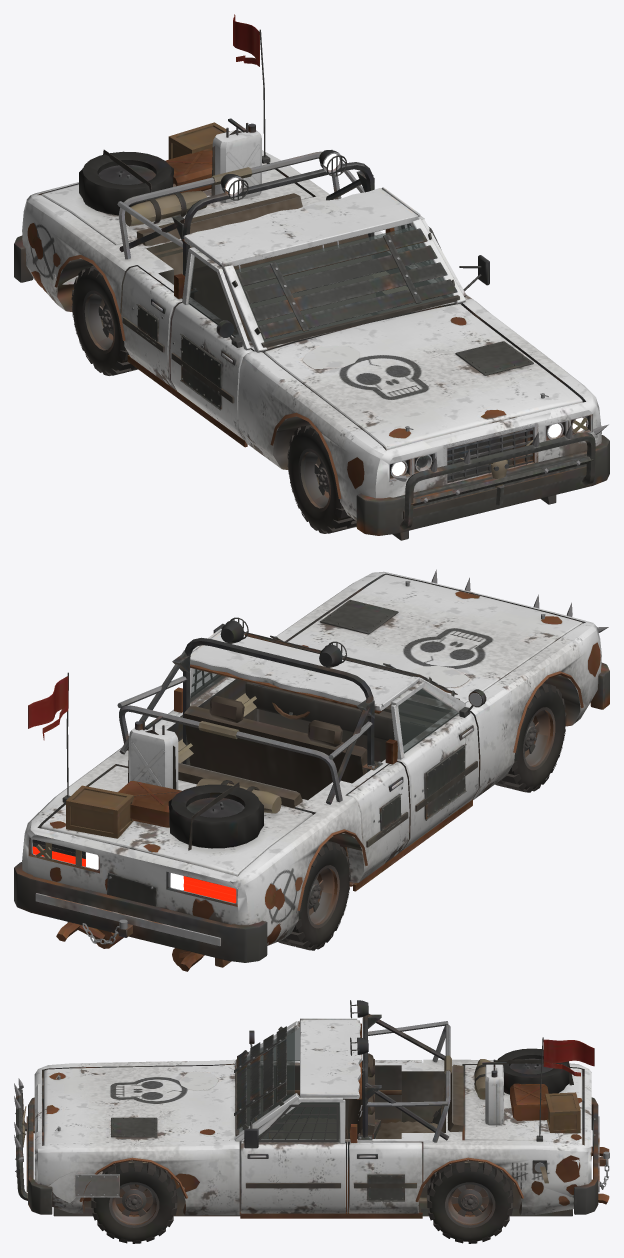
Rendered from e_sedan.glb.
3 renders of one model, top to bottom at view 1: azimuth 30°, elevation 25°; view 2: azimuth 150°, elevation 25°; view 3: azimuth 270°, elevation 25°, orthographic. The views are drawn at different scales.
Visible parts, largest first — view 1: body_mesh, panel_hood, panel_trunk, panel_bumper_F, panel_door_R, panel_door_R2, wheel_FR_tire, wheel_RR_tire, wheel_FR_rim, wheel_RR_rim, panel_door_L; view 2: body_mesh, panel_trunk, panel_hood, panel_door_R, panel_bumper_R, panel_door_R2, wheel_FR_tire, wheel_RR_tire, wheel_FR_rim, wheel_RR_rim, panel_bumper_F, panel_door_L; view 3: body_mesh, panel_hood, panel_door_L, panel_trunk, panel_door_L2, wheel_RL_tire, wheel_FL_tire, panel_bumper_F, wheel_RL_rim, wheel_FL_rim, panel_bumper_R, panel_door_R.
Part boxes in pixels (left/top/right/bottom): body_mesh: left=22, top=14, right=601, bottom=540; panel_hood: left=264, top=304, right=582, bottom=450; panel_trunk: left=41, top=118, right=312, bottom=245; panel_bumper_F: left=356, top=424, right=609, bottom=535; panel_door_R: left=170, top=247, right=253, bottom=440; panel_door_R2: left=121, top=266, right=182, bottom=389; wheel_FR_tire: left=287, top=424, right=356, bottom=533; wheel_RR_tire: left=71, top=266, right=137, bottom=375; wheel_FR_rim: left=298, top=448, right=330, bottom=511; wheel_RR_rim: left=82, top=290, right=114, bottom=353; panel_door_L: left=394, top=215, right=489, bottom=299; body_mesh: left=22, top=571, right=601, bottom=971; panel_trunk: left=41, top=716, right=312, bottom=906; panel_hood: left=287, top=574, right=582, bottom=703; panel_door_R: left=390, top=681, right=486, bottom=848; panel_bumper_R: left=14, top=862, right=267, bottom=962; panel_door_R2: left=347, top=762, right=409, bottom=882; wheel_FR_tire: left=495, top=683, right=566, bottom=792; wheel_RR_tire: left=278, top=841, right=350, bottom=950; wheel_FR_rim: left=523, top=707, right=555, bottom=770; wheel_RR_rim: left=307, top=865, right=339, bottom=928; panel_bumper_F: left=431, top=569, right=609, bottom=709; panel_door_L: left=190, top=623, right=228, bottom=705; body_mesh: left=34, top=1000, right=609, bottom=1218; panel_hood: left=44, top=1064, right=235, bottom=1145; panel_door_L: left=240, top=1097, right=345, bottom=1213; panel_trunk: left=464, top=1048, right=595, bottom=1152; panel_door_L2: left=349, top=1142, right=422, bottom=1213; wheel_RL_tire: left=427, top=1160, right=513, bottom=1243; wheel_FL_tire: left=91, top=1160, right=177, bottom=1243; panel_bumper_F: left=14, top=1078, right=52, bottom=1214; wheel_RL_rim: left=445, top=1182, right=495, bottom=1227; wheel_FL_rim: left=109, top=1182, right=159, bottom=1227; panel_bumper_R: left=574, top=1097, right=609, bottom=1214; panel_door_R: left=249, top=1020, right=299, bottom=1094.
Size of the model in its own units: 2.18 by 2 by 5.39.
Materials: 21 (18 with a texture image).
